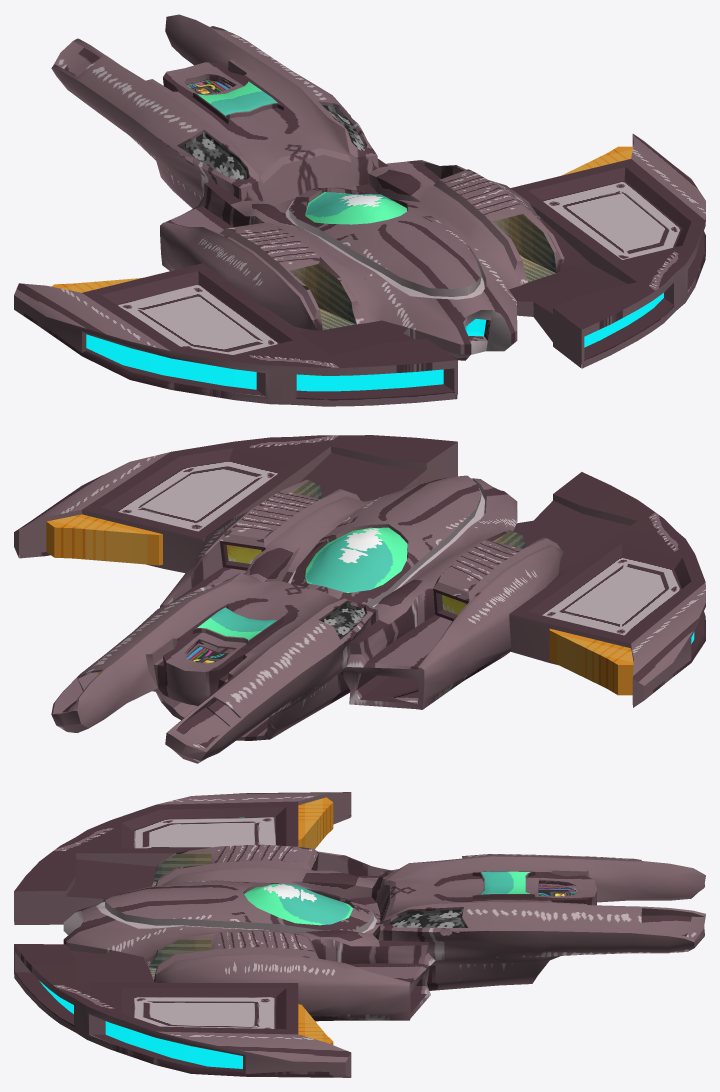
File: ship20.DAE
3 renders of one model, top to bottom at view 1: azimuth 30°, elevation 25°; view 2: azimuth 150°, elevation 25°; view 3: azimuth 270°, elevation 25°, orthographic. The views are drawn at different scales.
Visible parts, largest first — view 1: Ship; view 2: Ship; view 3: Ship.
Part boxes in pixels (x1,y1,x2,y2): Ship: (14,14,705,406); Ship: (14,435,705,763); Ship: (14,792,705,1077).
Size of the model in its own units: 518 by 566 by 94.5.
3 materials, 2 textured.
